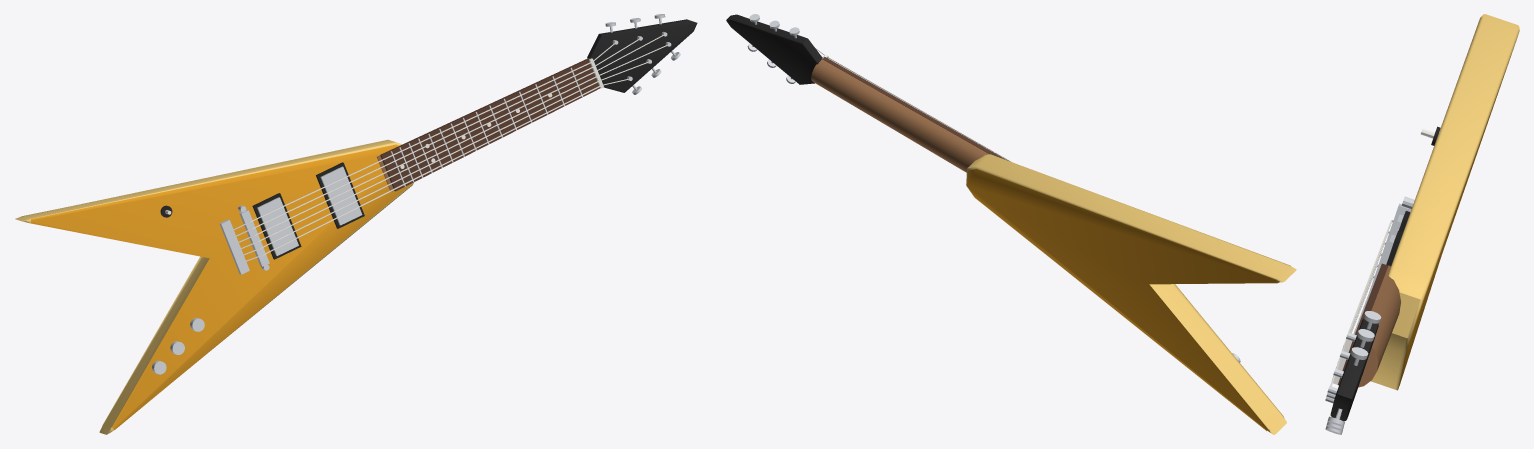
Rendered from guitarra.glb.
3 renders of one model, left to right at view 1: azimuth 30°, elevation 25°; view 2: azimuth 150°, elevation 25°; view 3: azimuth 270°, elevation 25°, orthographic. The views are drawn at different scales.
Visible parts, largest first — view 1: Guitarra; view 2: Guitarra; view 3: Guitarra.
Part boxes in pixels (x1=…): Guitarra: x1=15, y1=14, x2=697, y2=434; Guitarra: x1=726, y1=14, x2=1296, y2=434; Guitarra: x1=1325, y1=14, x2=1519, y2=434.
Bounding box in the file's own units: 1.56 × 0.6878 × 0.2518.
